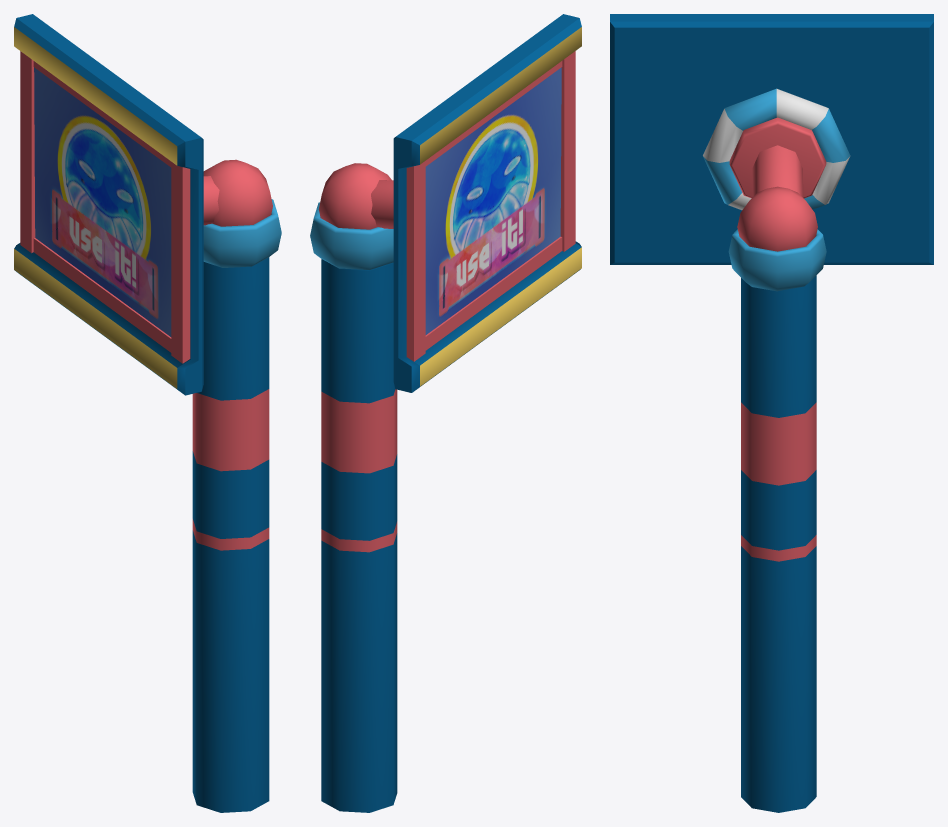
Rendered from plataformaPilarMarketing.fbx.
The picture shows the model from 3 angles, left to right: view 1: azimuth 30°, elevation 25°; view 2: azimuth 150°, elevation 25°; view 3: azimuth 270°, elevation 25°; orthographic projection. The views are drawn at different scales.
Visible parts, largest first — view 1: pantalla1, pilar, regulador; view 2: pantalla1, pilar, regulador; view 3: pantalla1, pilar, regulador.
Part boxes in pixels (x1,y1,x2,y2): pantalla1: (14,14,272,395); pilar: (192,257,269,812); regulador: (203,199,281,267); pantalla1: (318,14,581,392); pilar: (321,259,397,812); regulador: (310,202,393,269); pantalla1: (610,14,933,264); pilar: (741,275,816,812); regulador: (728,229,826,291).
Size of the model in its own units: 1082 by 4227 by 1722.
Materials: 6 (1 with a texture image).
